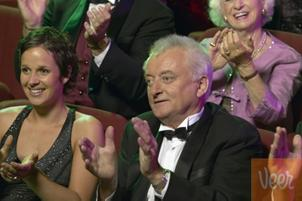person: (78, 32, 263, 201)
